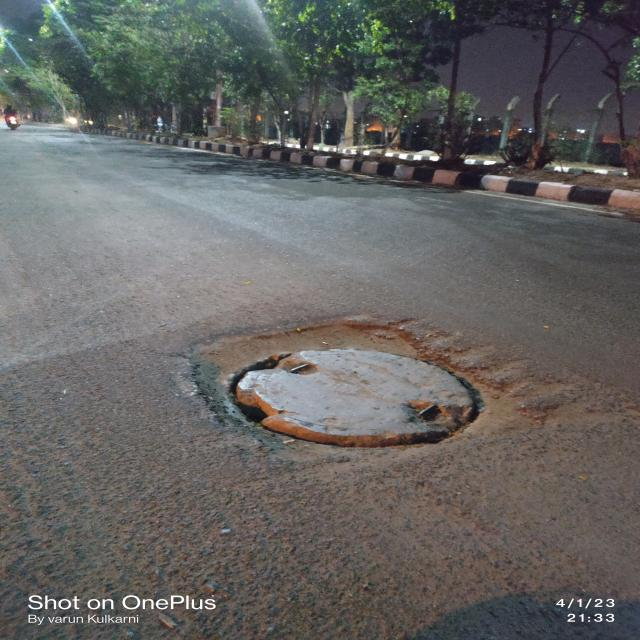manhole: (175, 331, 555, 478)
